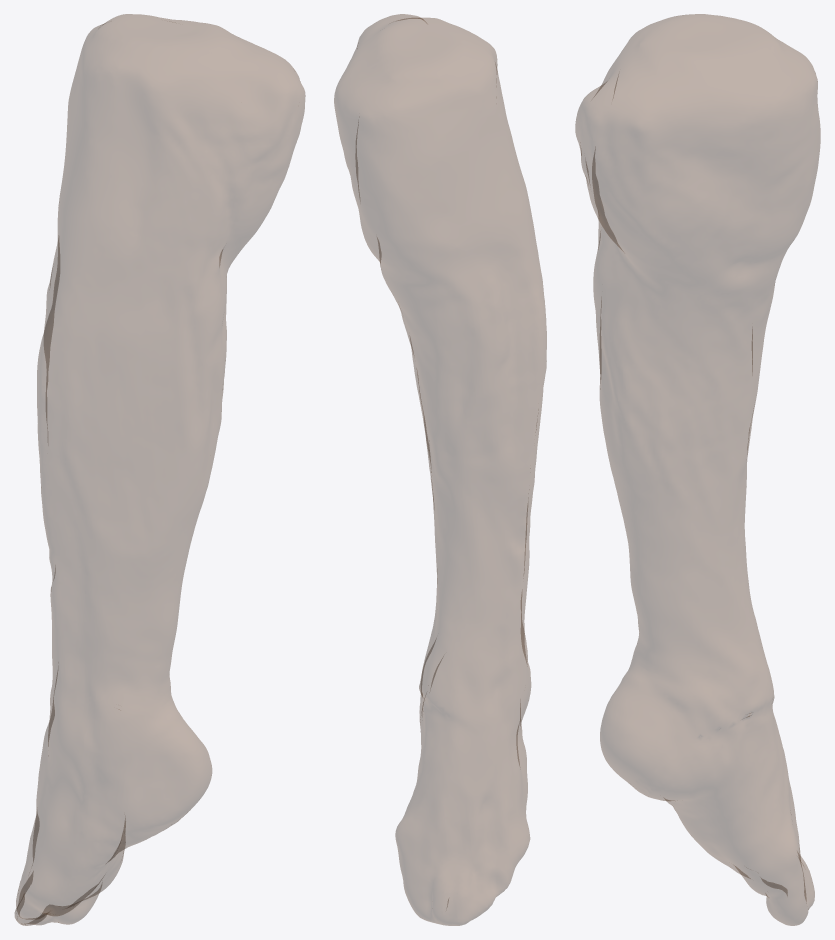
The model's file is HighFidelity_MSAP.glb.
3 renders of one model, left to right at view 1: azimuth 30°, elevation 25°; view 2: azimuth 150°, elevation 25°; view 3: azimuth 270°, elevation 25°, orthographic. The views are drawn at different scales.
Parts seen in each view (by area): view 1: Skin_2; view 2: Skin_2; view 3: Skin_2.
Boxes of the visible parts, x1,y1,x2,y2 form: Skin_2: (14,14,305,925); Skin_2: (334,14,546,925); Skin_2: (575,14,820,925).
Bounding box in the file's own units: 0.8764 × 3.35 × 0.8132.
